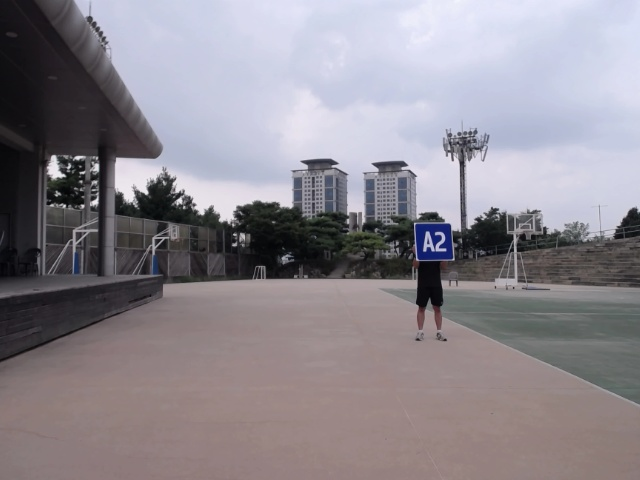delivery_a2: (414, 223, 455, 260)
